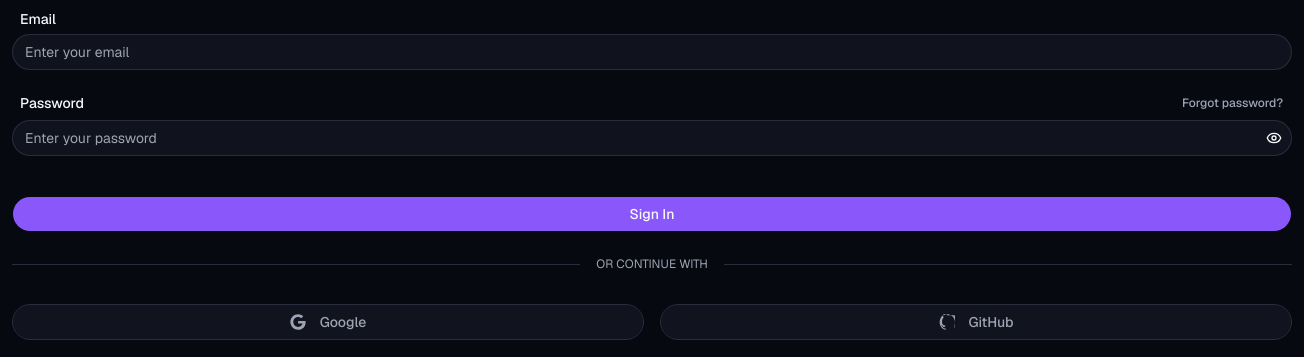
Test: SignInForm — social sign-in › disables other fields and buttons when a social sign-in is pending
Click the button "Google" at point(328, 322), box [12,304,644,340]
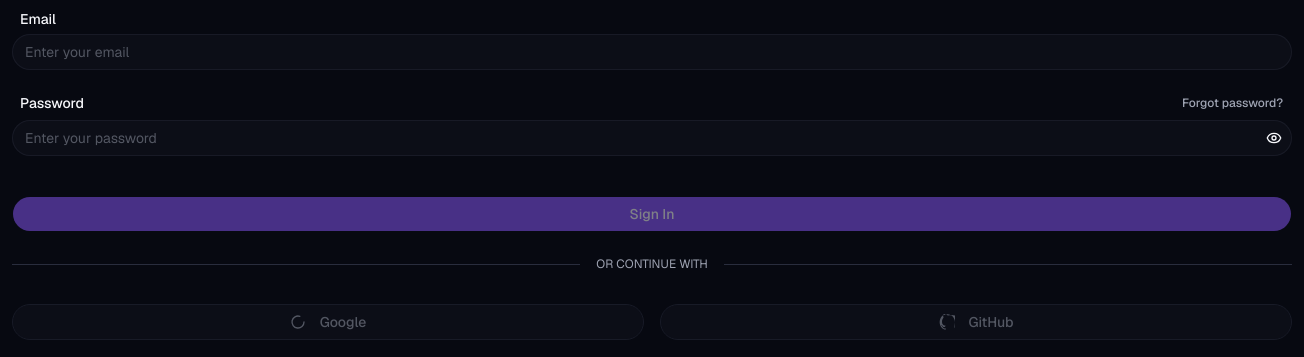
Now the field labelled "Email" is disabled, box [12,34,1292,70]
Now the password field named "password" is disabled, box [12,120,1292,156]
Now the button "Sign In" is disabled, box [12,196,1292,232]
